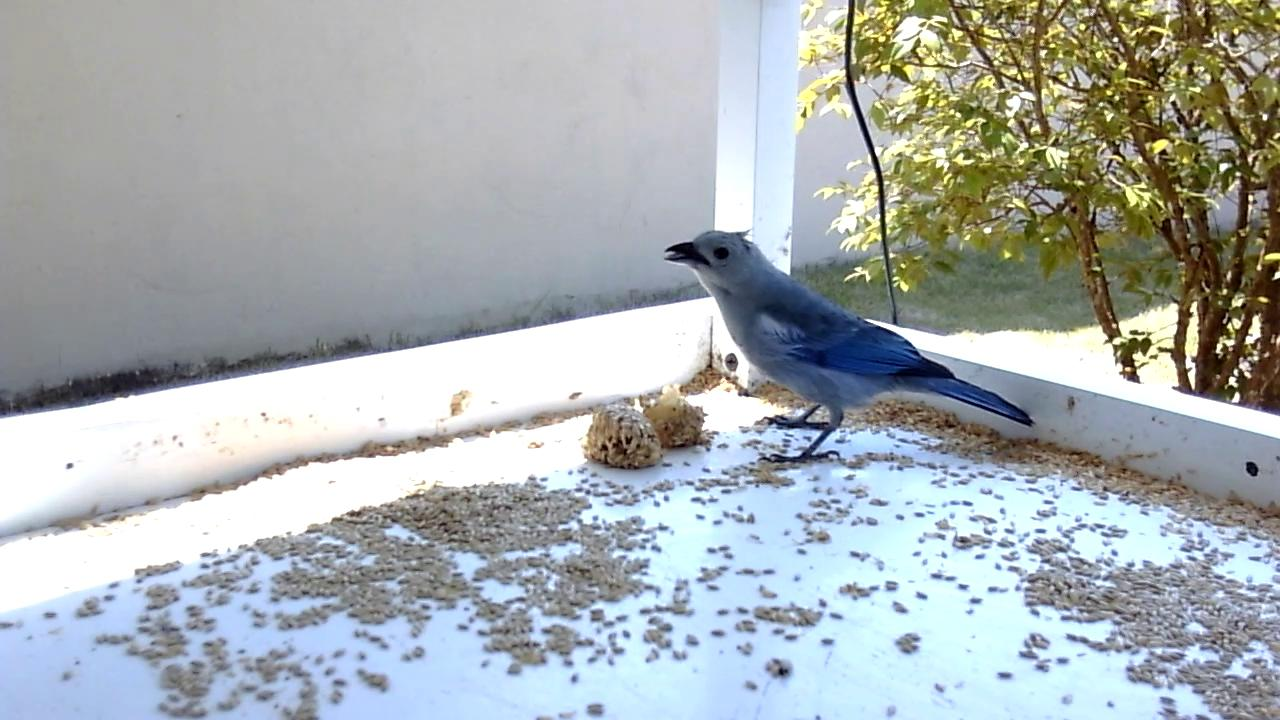sanhaco_da_amazonia: (659, 225, 1037, 468)
